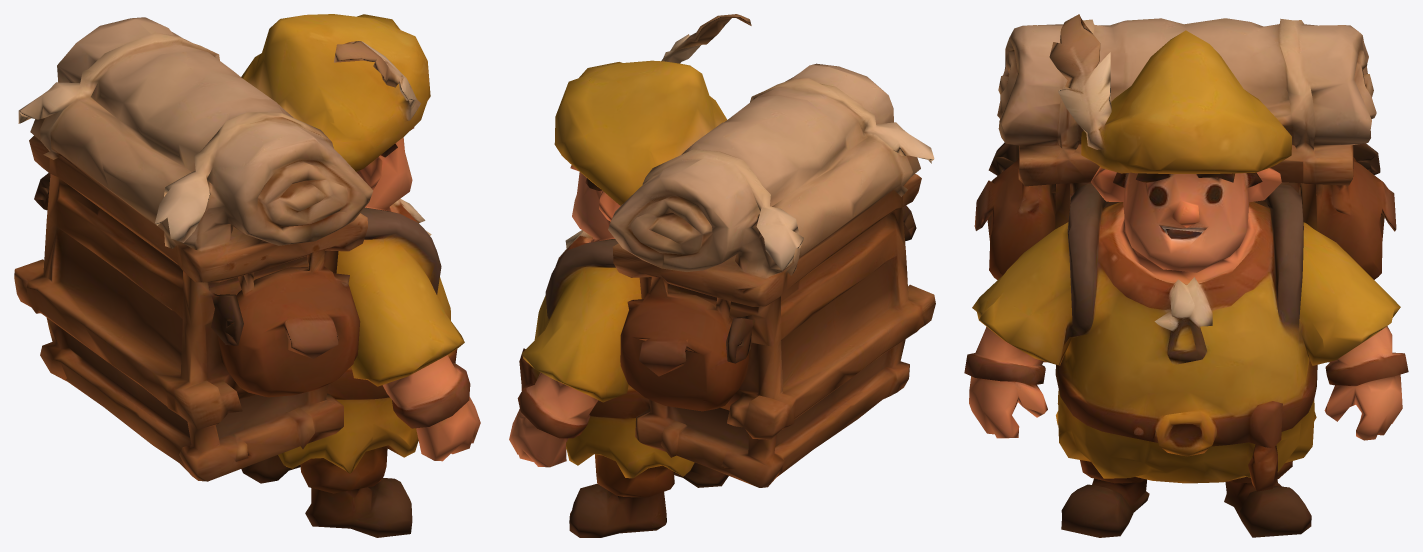
Rendered from villager_merchant.glb.
The picture shows the model from 3 angles, left to right: view 1: azimuth 30°, elevation 25°; view 2: azimuth 150°, elevation 25°; view 3: azimuth 270°, elevation 25°; orthographic projection. The views are drawn at different scales.
Parts seen in each view (by area): view 1: tripo_node_406e38e7-ec97-44ae-9e78-1d83b4365fd8; view 2: tripo_node_406e38e7-ec97-44ae-9e78-1d83b4365fd8; view 3: tripo_node_406e38e7-ec97-44ae-9e78-1d83b4365fd8.
Part boxes in pixels (left/top/right/bottom): tripo_node_406e38e7-ec97-44ae-9e78-1d83b4365fd8: left=14, top=14, right=480, bottom=537; tripo_node_406e38e7-ec97-44ae-9e78-1d83b4365fd8: left=509, top=14, right=935, bottom=537; tripo_node_406e38e7-ec97-44ae-9e78-1d83b4365fd8: left=964, top=14, right=1408, bottom=537.
Bounding box in the file's own units: 0.7428 × 1 × 0.8292.
Materials: 1 (1 with a texture image).
